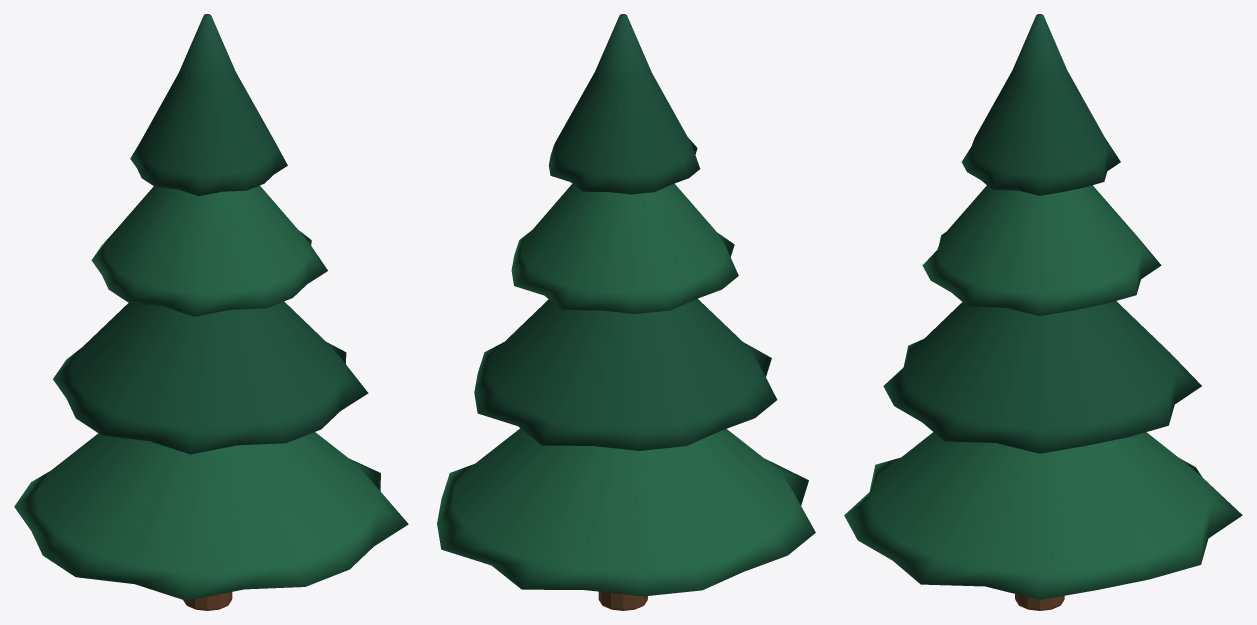
The model's file is pine_tall.glb.
3 renders of one model, left to right at view 1: azimuth 30°, elevation 25°; view 2: azimuth 150°, elevation 25°; view 3: azimuth 270°, elevation 25°, orthographic.
Parts seen in each view (by area): view 1: pine_tall; view 2: pine_tall; view 3: pine_tall.
Boxes of the visible parts, left/top/right/bottom form: pine_tall: left=14, top=14, right=408, bottom=610; pine_tall: left=437, top=14, right=815, bottom=610; pine_tall: left=844, top=14, right=1242, bottom=610.
Size of the model in its own units: 4.11 by 6.8 by 4.19.
